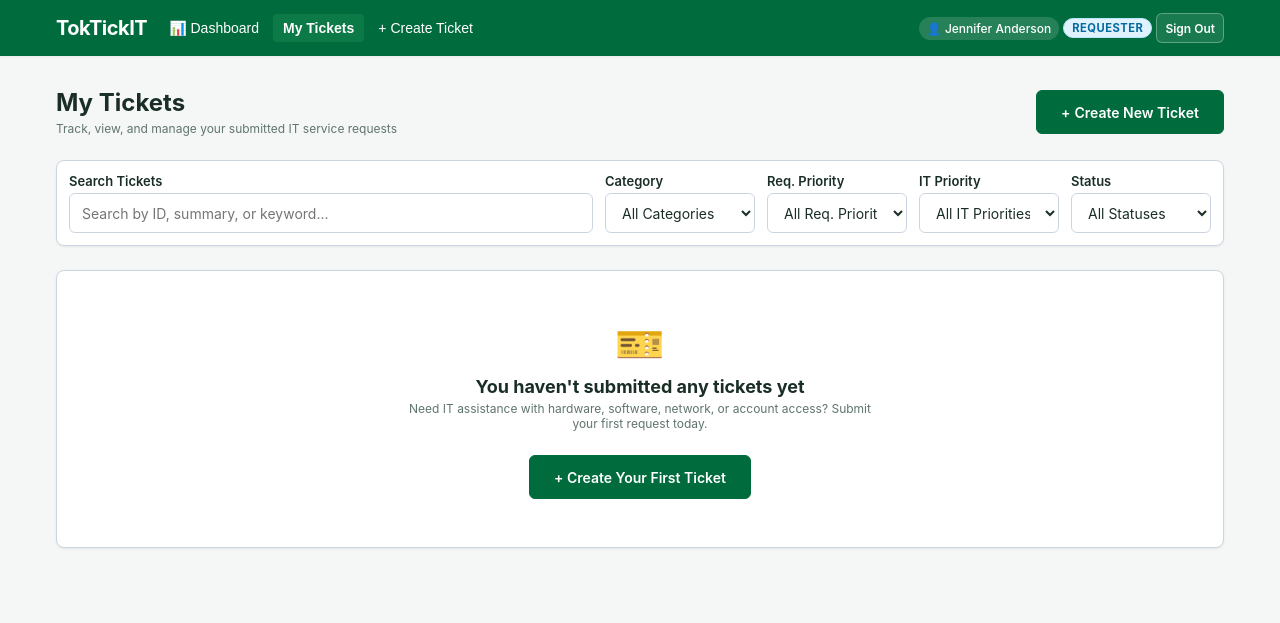
it: Lab 3 Issue 2 Bug Fixes - Auth Flow Integration Tests › Bug 2 & 3: clicking Sign Out immediately redirects to /login with NO leftover Change Requester button
The image size is (1280, 623).
Click Sign Out
Click the button with test id "logout-btn".
click(1190, 28)  # box [1156, 13, 1224, 43]
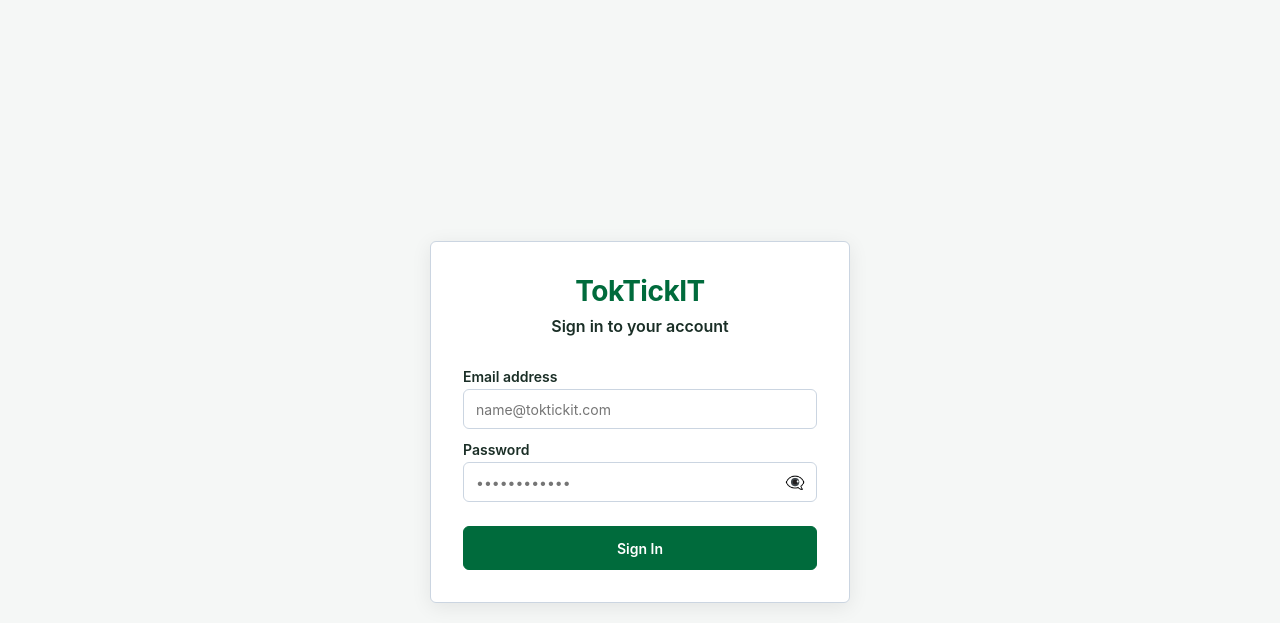
Check: the field with test id "login-email-input" is shown, box [463, 389, 817, 429]
Check: the heading "Sign in to your account" is shown, box [551, 316, 729, 336]
